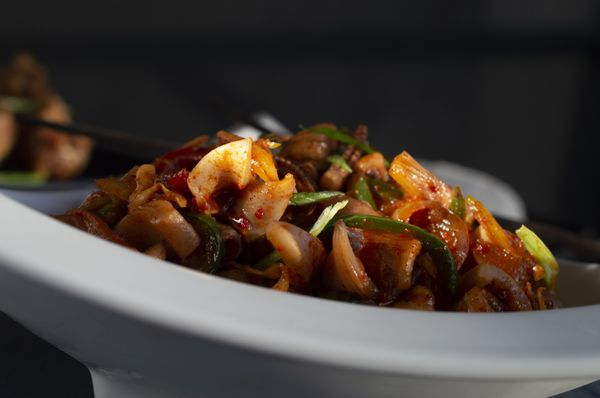sushi: (17, 114, 599, 387)
